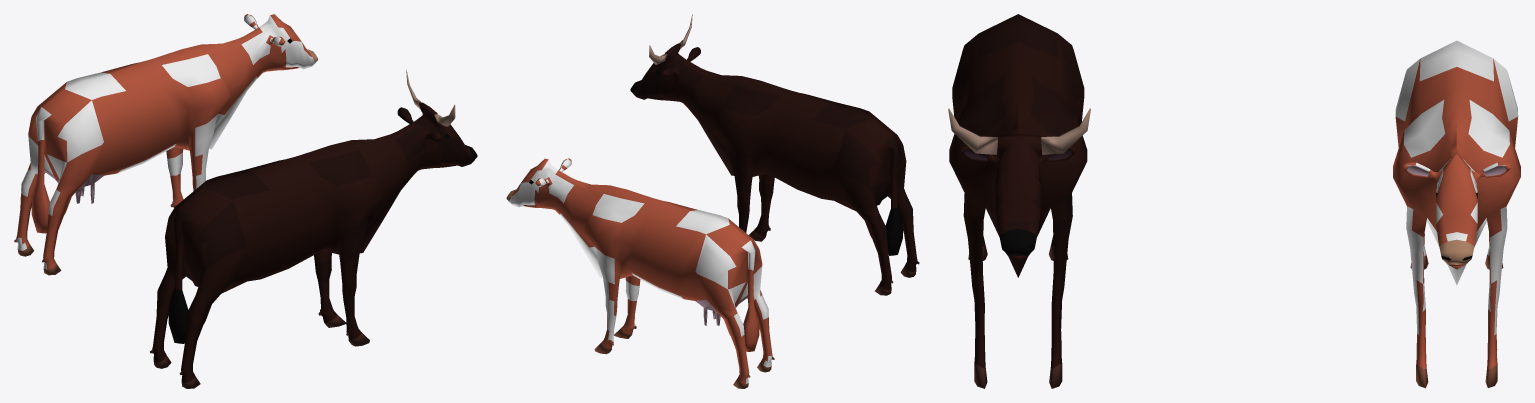
The model's file is cow.glb.
The picture shows the model from 3 angles, left to right: view 1: azimuth 30°, elevation 25°; view 2: azimuth 150°, elevation 25°; view 3: azimuth 270°, elevation 25°; orthographic projection. The views are drawn at different scales.
Visible parts, largest first — view 1: Cube.041, Cube.021; view 2: Cube.041, Cube.021; view 3: Cube.041, Cube.021.
Boxes of the visible parts, x1=… form: Cube.041: x1=150, y1=69, x2=477, y2=388; Cube.021: x1=14, y1=14, x2=317, y2=275; Cube.041: x1=630, y1=14, x2=919, y2=295; Cube.021: x1=506, y1=158, x2=774, y2=388; Cube.041: x1=948, y1=14, x2=1090, y2=388; Cube.021: x1=1393, y1=40, x2=1520, y2=388.
Size of the model in its own units: 1.19 by 0.8355 by 1.31.
